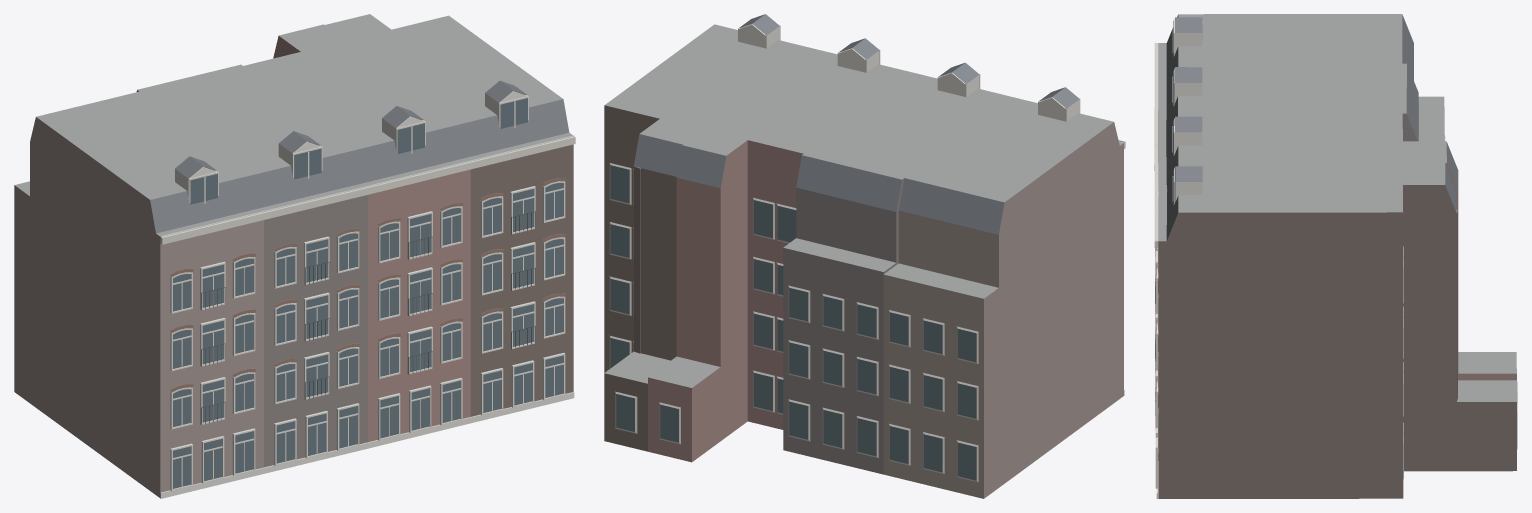
The model's file is chunk-face-ruysch-64-124-r2.glb.
3 views of the same model, side by side, from view 1: azimuth 30°, elevation 25°; view 2: azimuth 150°, elevation 25°; view 3: azimuth 270°, elevation 25° (orthographic). The views are drawn at different scales.
Visible parts, largest first — view 1: face-ruysch-64-124-r2; view 2: face-ruysch-64-124-r2; view 3: face-ruysch-64-124-r2.
Part boxes in pixels (bbox=[...]): face-ruysch-64-124-r2: bbox=[14, 14, 575, 498]; face-ruysch-64-124-r2: bbox=[604, 14, 1125, 498]; face-ruysch-64-124-r2: bbox=[1154, 14, 1517, 498].
Bounding box in the file's own units: 22.36 × 16.16 × 17.28.
